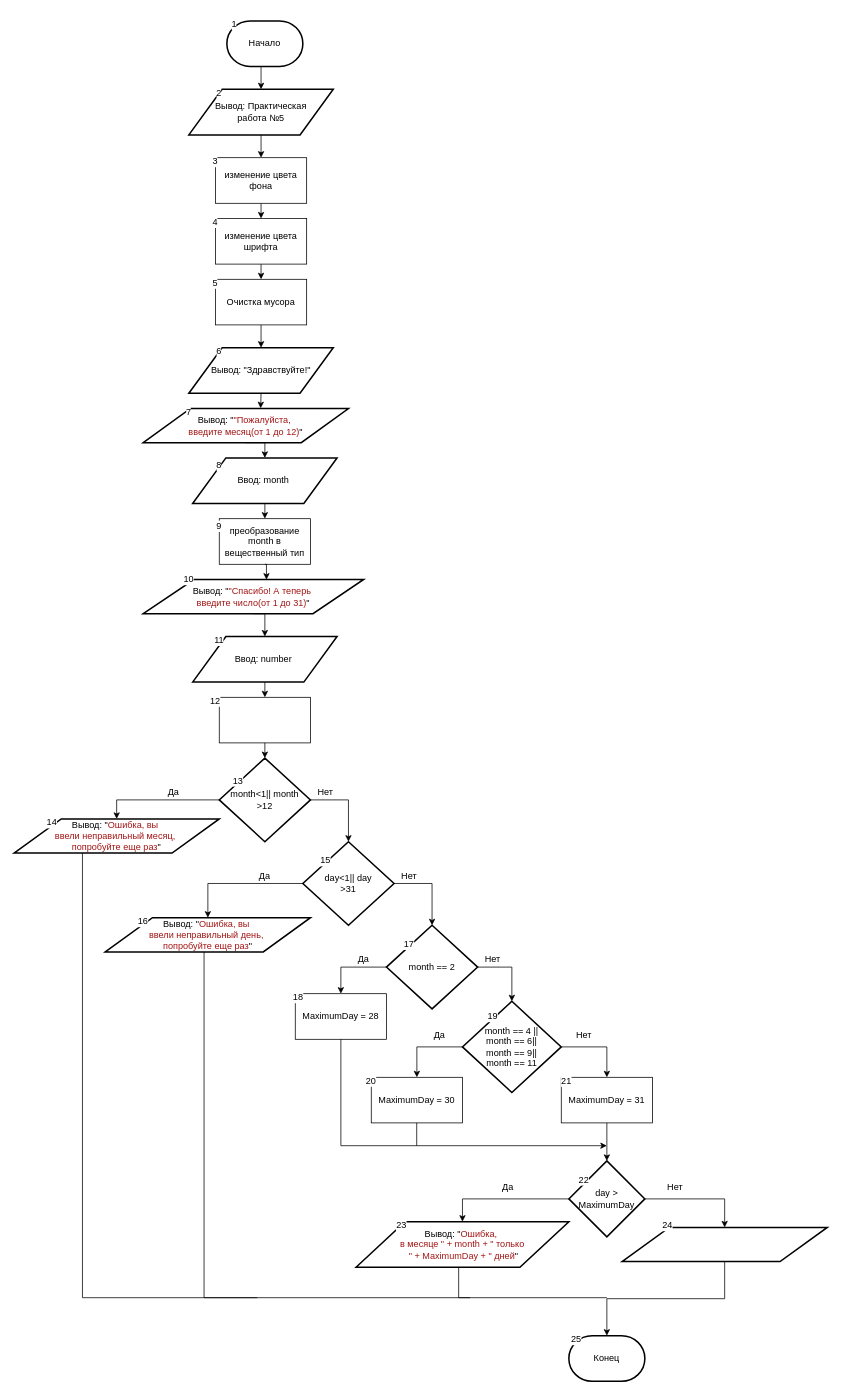
Some shapes in this 841 by 1395 pixel diagram are drawn without their labels. Each missing label, with the centre of its shape:
Вывод: " Дата корректна " + number + " / " + month ": point 724,1244
преобразование number в вещественный тип: point 264,720
